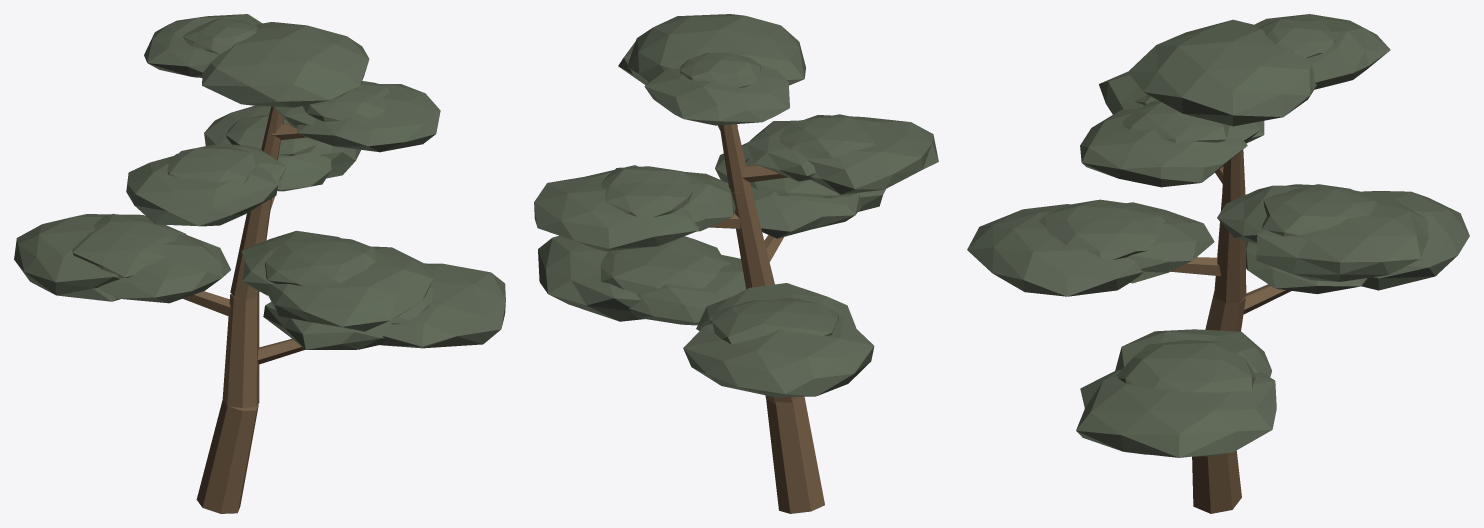
3 views of the same model, side by side, from view 1: azimuth 30°, elevation 25°; view 2: azimuth 150°, elevation 25°; view 3: azimuth 270°, elevation 25° (orthographic). The views are drawn at different scales.
Visible parts, largest first — view 1: K12b; view 2: K12b; view 3: K12b.
Part boxes in pixels (x1,y1,x2,y2): K12b: (14,14,505,513); K12b: (534,14,938,513); K12b: (967,14,1469,513).
Size of the model in its own units: 11.03 by 12.06 by 10.96.
